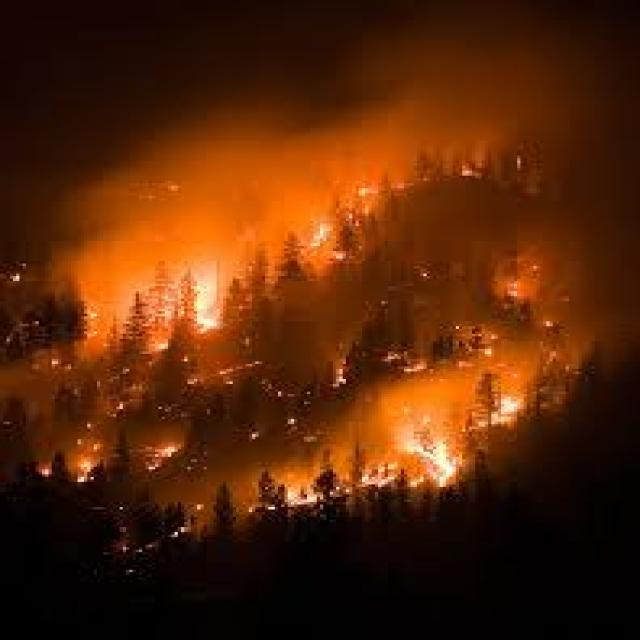Fire: (242, 431, 473, 538), (92, 254, 286, 346), (280, 178, 388, 262), (488, 383, 543, 434), (137, 438, 194, 472), (66, 440, 104, 486), (501, 278, 538, 302), (36, 466, 54, 481)
